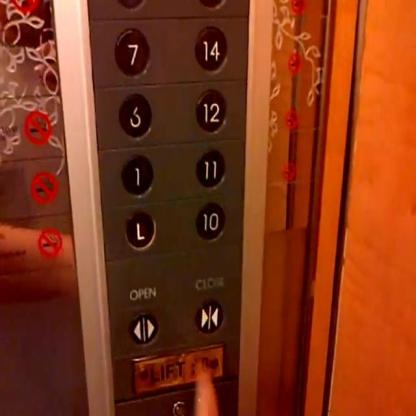1: (119, 154, 155, 200)
10: (193, 200, 226, 243)
11: (195, 148, 227, 192)
12: (192, 86, 230, 136)
14: (193, 22, 228, 74)
7: (113, 26, 153, 80)
L: (122, 210, 158, 251)
blur: (117, 91, 152, 140)
close: (194, 294, 225, 335)
open: (127, 309, 160, 346)
